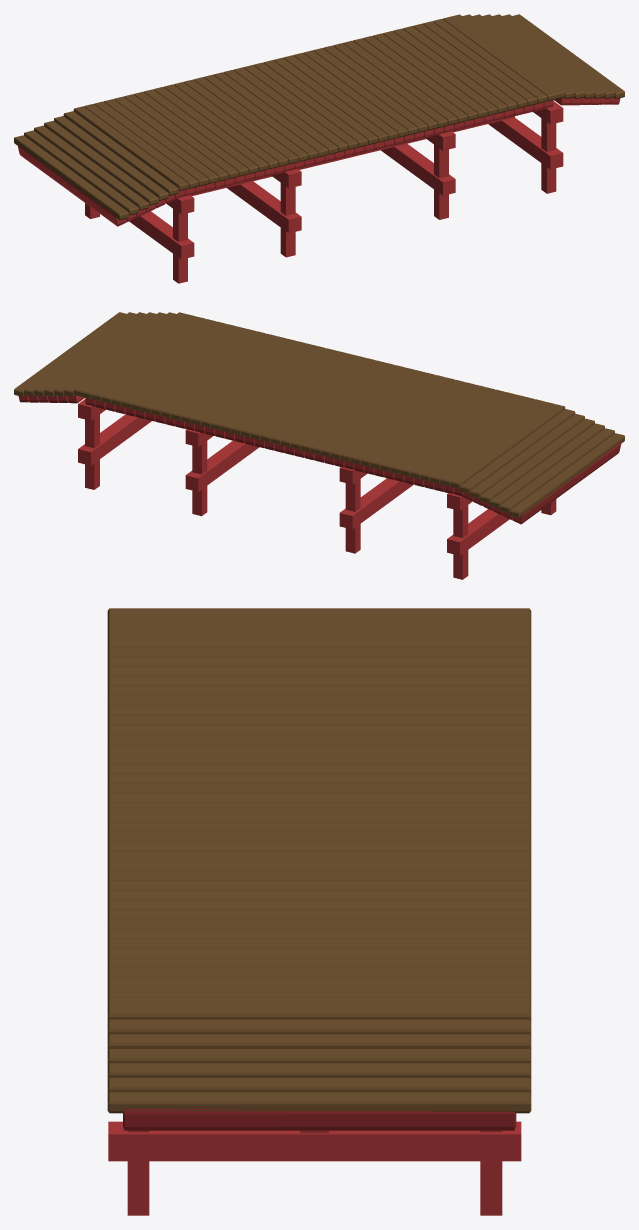
The model's file is Bridge-base.fbx.
The picture shows the model from 3 angles, top to bottom: view 1: azimuth 30°, elevation 25°; view 2: azimuth 150°, elevation 25°; view 3: azimuth 270°, elevation 25°; orthographic projection. The views are drawn at different scales.
Visible parts, largest first — view 1: Bridge; view 2: Bridge; view 3: Bridge.
Part boxes in pixels (x1,y1,x2,y2): Bridge: (14, 14, 624, 283); Bridge: (14, 312, 624, 579); Bridge: (107, 608, 531, 1215).
Size of the model in its own units: 2479 by 481 by 899.
